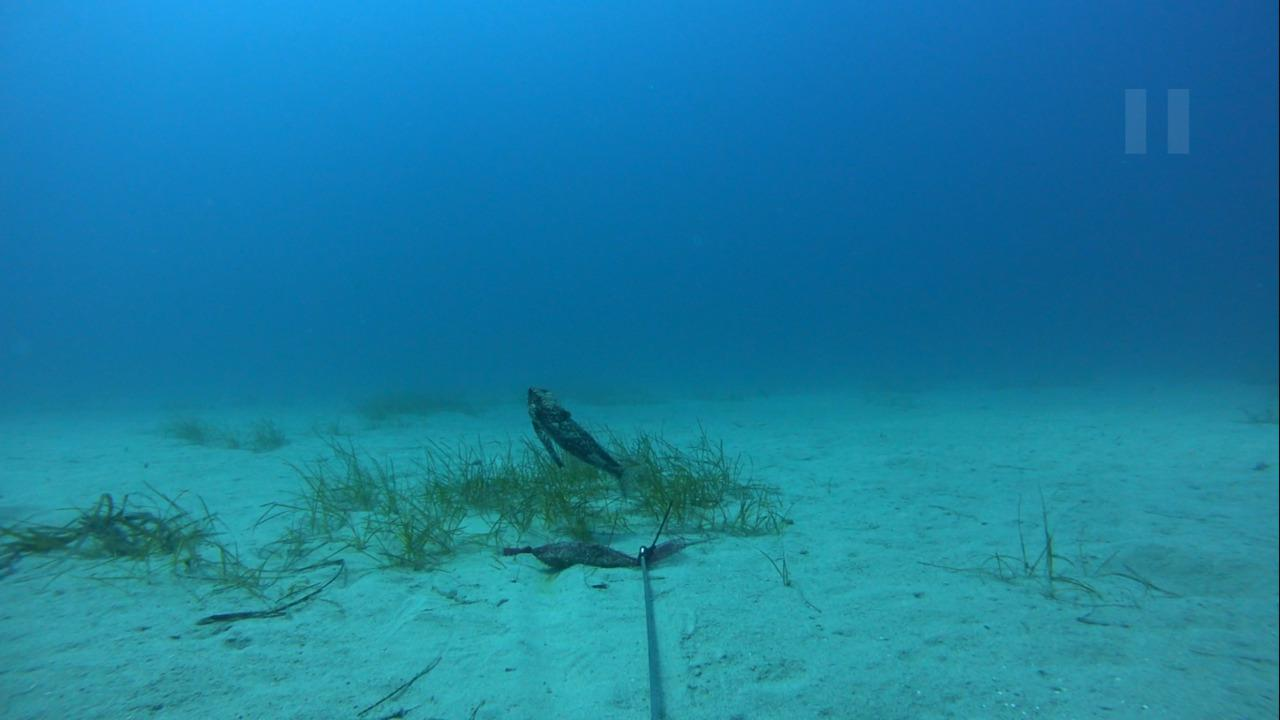dactylopterus: (514, 378, 640, 506)
